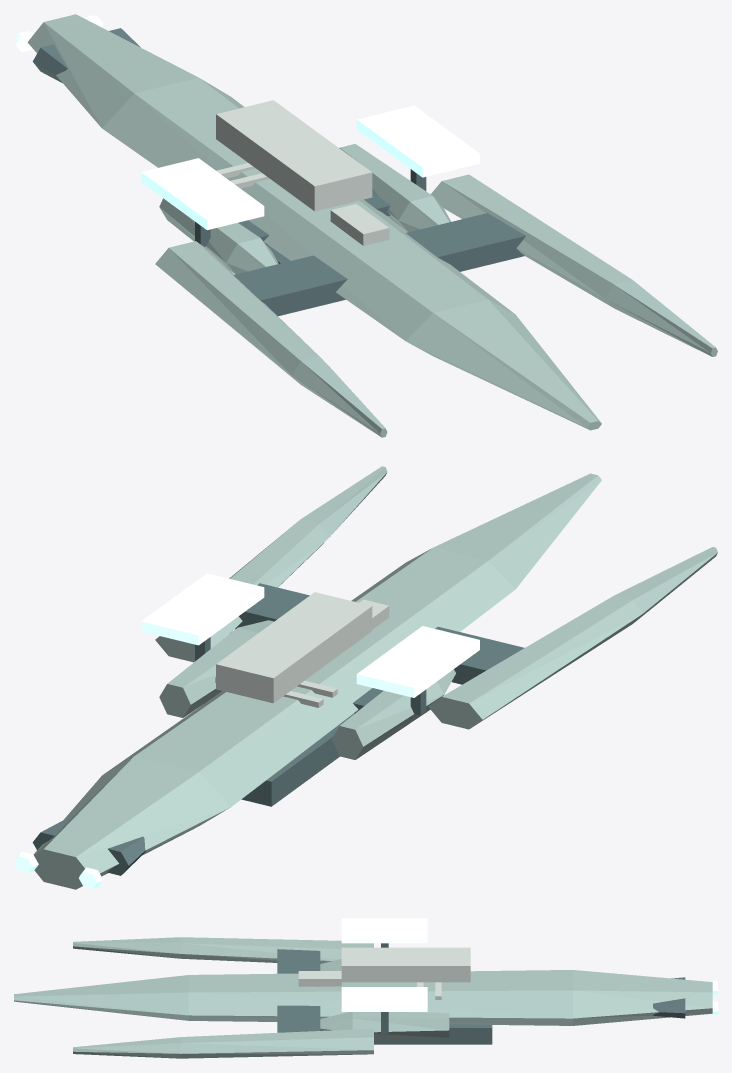
The picture shows the model from 3 angles, top to bottom: view 1: azimuth 30°, elevation 25°; view 2: azimuth 150°, elevation 25°; view 3: azimuth 270°, elevation 25°; orthographic projection. The views are drawn at different scales.
Bounding box in the file's own units: 5.61 × 1.73 × 14.93.
